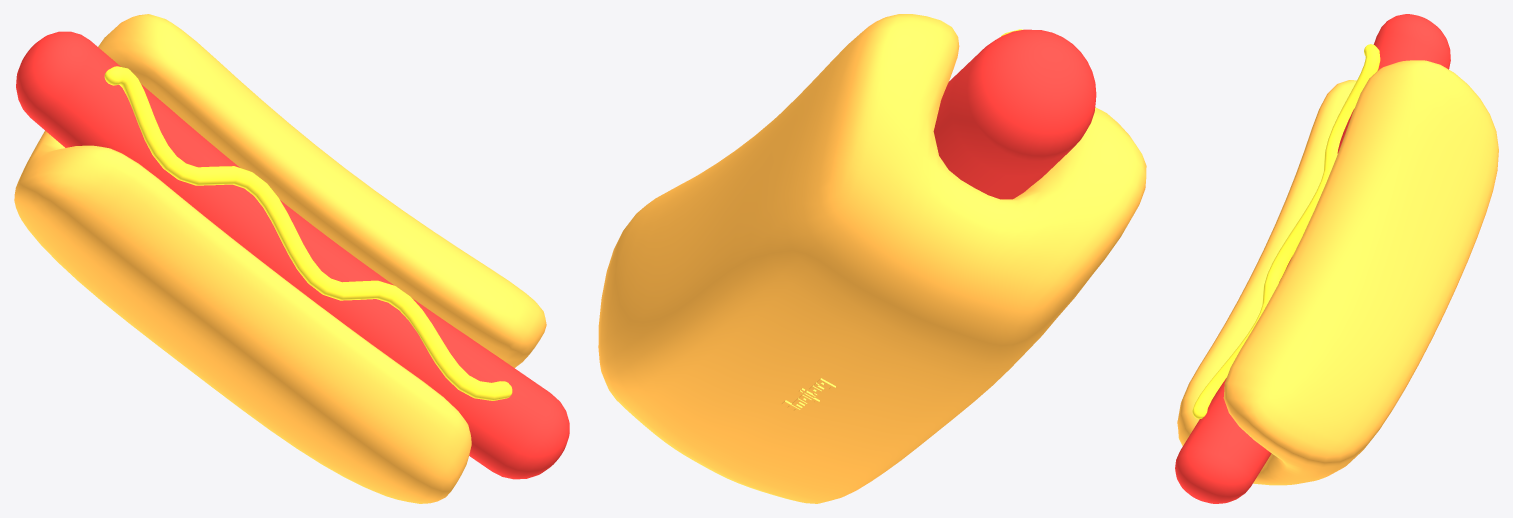
The model's file is hot_dog.gltf.
The picture shows the model from 3 angles, left to right: view 1: azimuth 30°, elevation 25°; view 2: azimuth 150°, elevation 25°; view 3: azimuth 270°, elevation 25°; orthographic projection. The views are drawn at different scales.
Parts seen in each view (by area): view 1: Cube.353; view 2: Cube.353; view 3: Cube.353.
Boxes of the visible parts, x1,y1,x2,y2 form: Cube.353: [14, 14, 569, 503]; Cube.353: [598, 14, 1146, 503]; Cube.353: [1175, 14, 1498, 503].
Bounding box in the file's own units: 2.01 × 1.97 × 1.56.
Materials: 1 (1 with a texture image).
